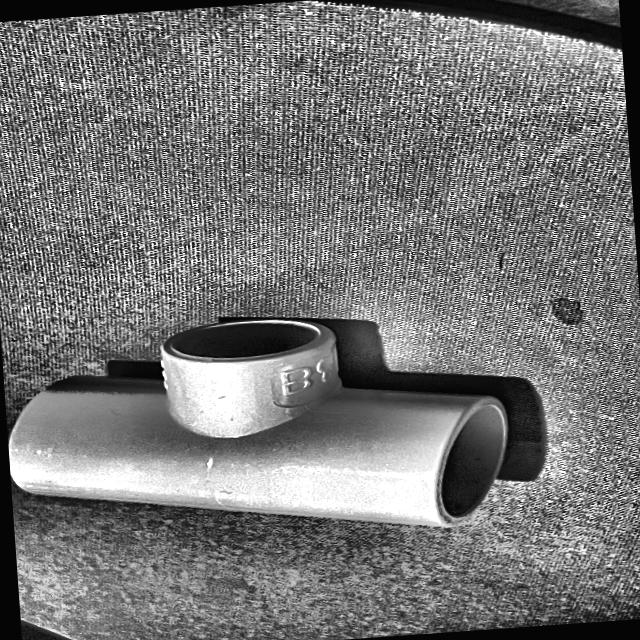EQUALTEE: (7, 317, 509, 526)
